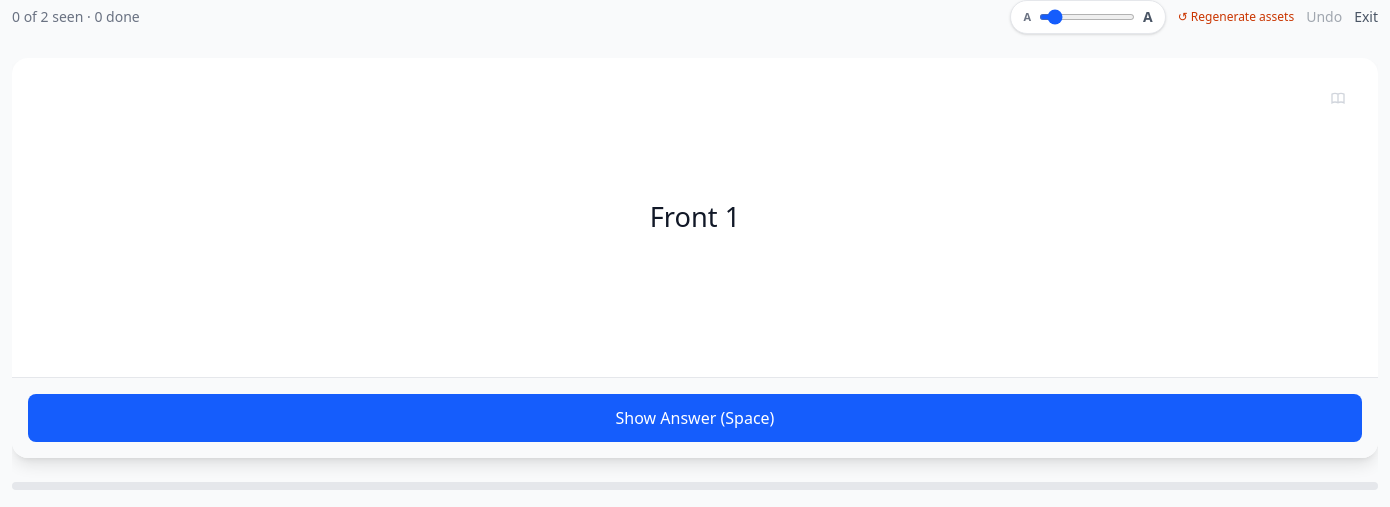
Test: FlashcardReview mnemonics: the teacher asks, nothing is suggested on its own › an older server’s “auto-non-cognate” and low cognate score suggest nothing
The width and height of the screenshot is (1390, 507).
Step 1. Click the button "Show Answer (Space)" → (695, 418), box [28,394,1362,442]
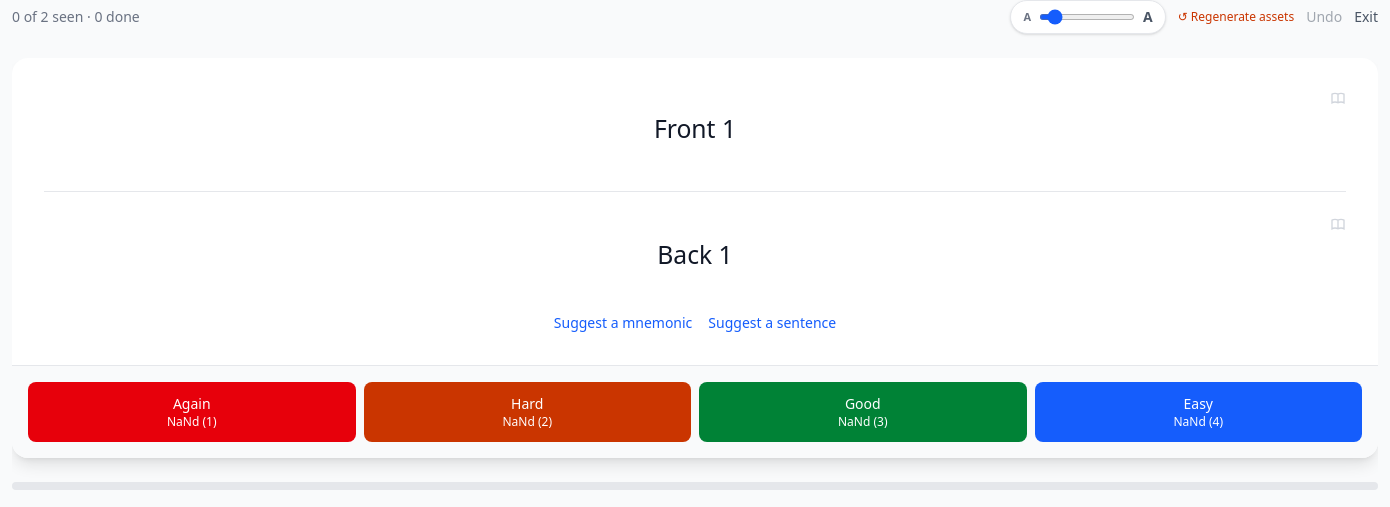
Result: the button "Suggest a mnemonic" is shown at [554,313,692,333]
